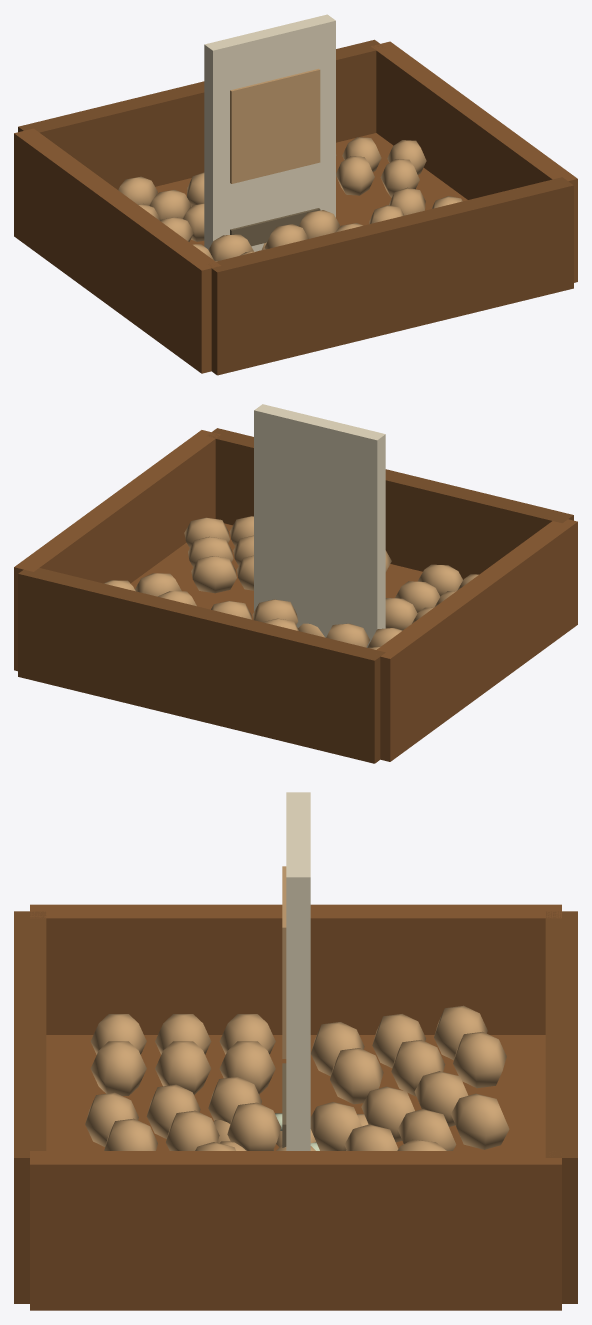
File: Nut_Peanut.fbx
3 views of the same model, one above another, from view 1: azimuth 30°, elevation 25°; view 2: azimuth 150°, elevation 25°; view 3: azimuth 270°, elevation 25° (orthographic). The views are drawn at different scales.
Parts seen in each view (by area): view 1: Nut_Peanut__Stack, Nut_Peanut__Seed; view 2: Nut_Peanut__Stack, Nut_Peanut__Seed; view 3: Nut_Peanut__Stack, Nut_Peanut__Seed, Nut_Peanut.
Part boxes in pixels (x1=…): Nut_Peanut__Stack: x1=14, y1=39, x2=577, y2=375; Nut_Peanut__Seed: x1=204, y1=14, x2=335, y2=251; Nut_Peanut__Stack: x1=14, y1=428, x2=577, y2=763; Nut_Peanut__Seed: x1=254, y1=404, x2=385, y2=647; Nut_Peanut__Stack: x1=14, y1=904, x2=577, y2=1310; Nut_Peanut__Seed: x1=282, y1=792, x2=310, y2=1150; Nut_Peanut: x1=213, y1=1114, x2=368, y2=1150.
Bounding box in the file's own units: 0.1528 × 0.09 × 0.14.
